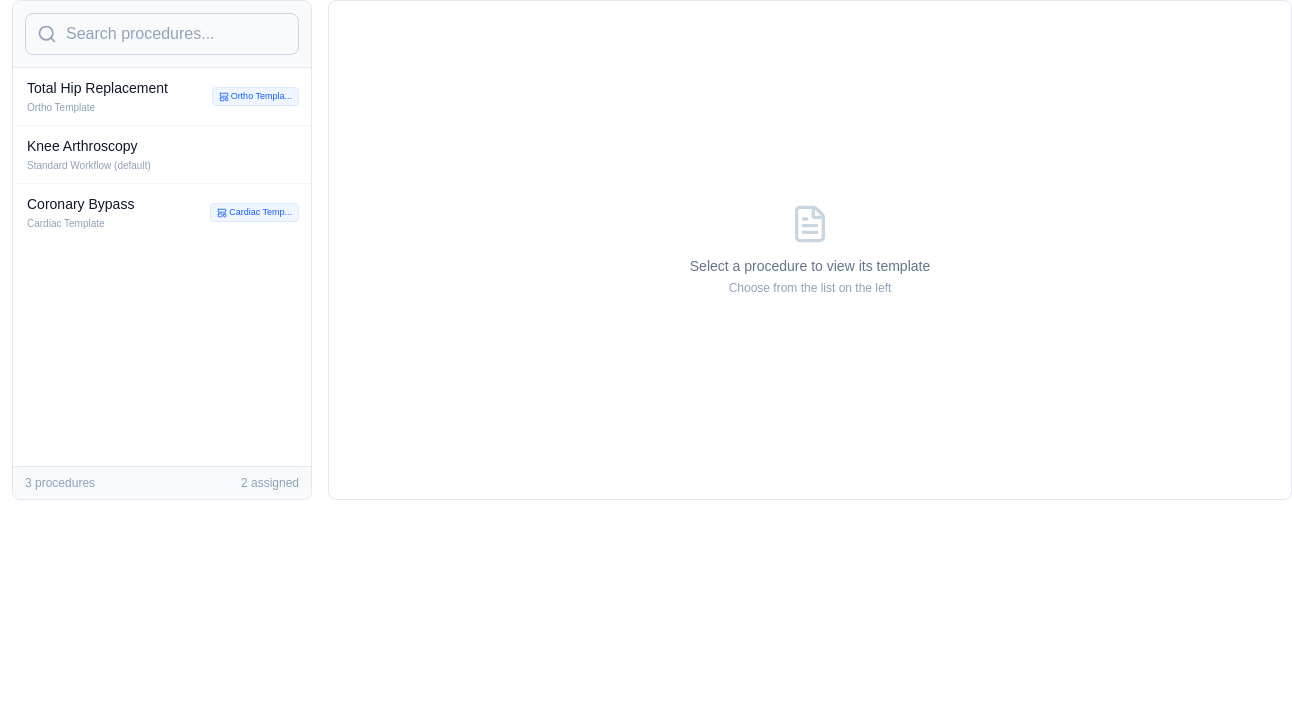
Test: ProcedureTemplateAssignment › procedure selection › shows facility default label for inherited procedure
Step 1. Click the text "Knee Arthroscopy" → point(82, 146), box [27, 138, 138, 154]
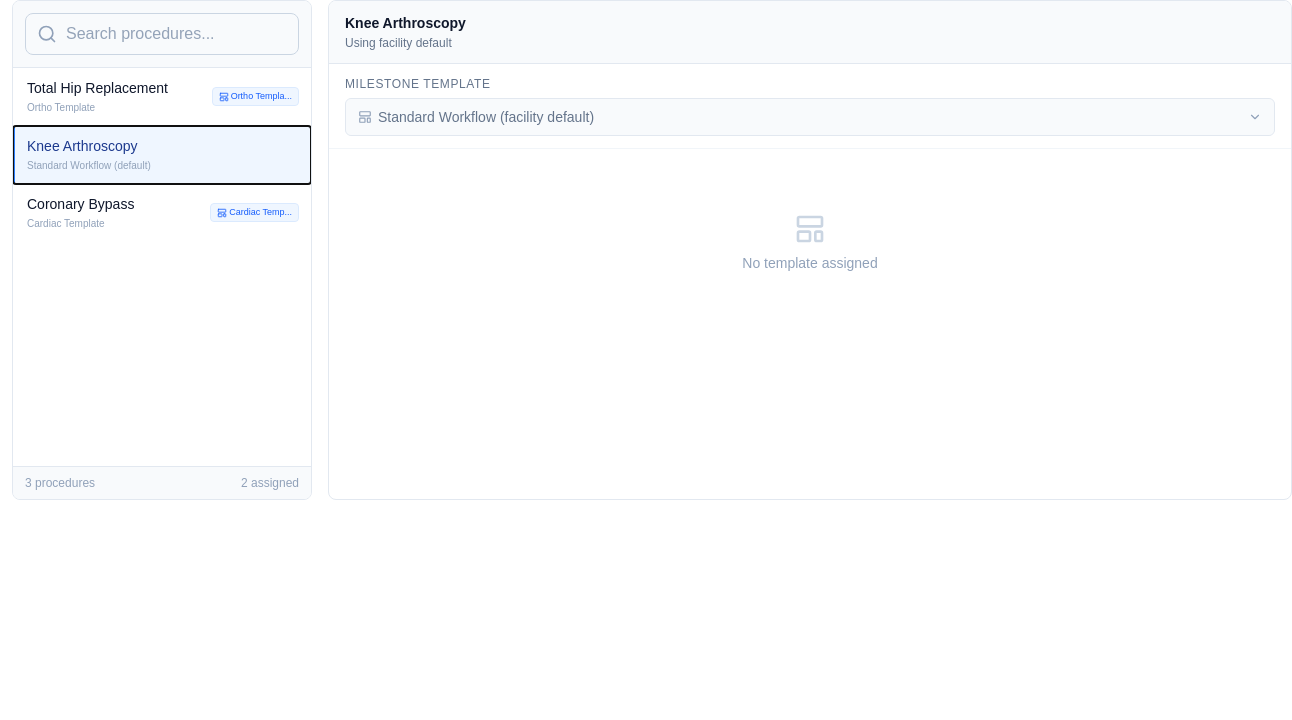
Result: the text "Using facility default" is shown at [345, 36, 452, 50]
